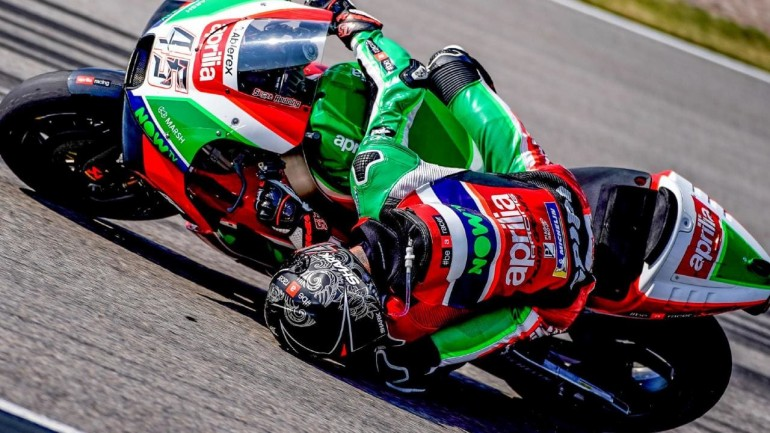helmet: (258, 234, 386, 355)
